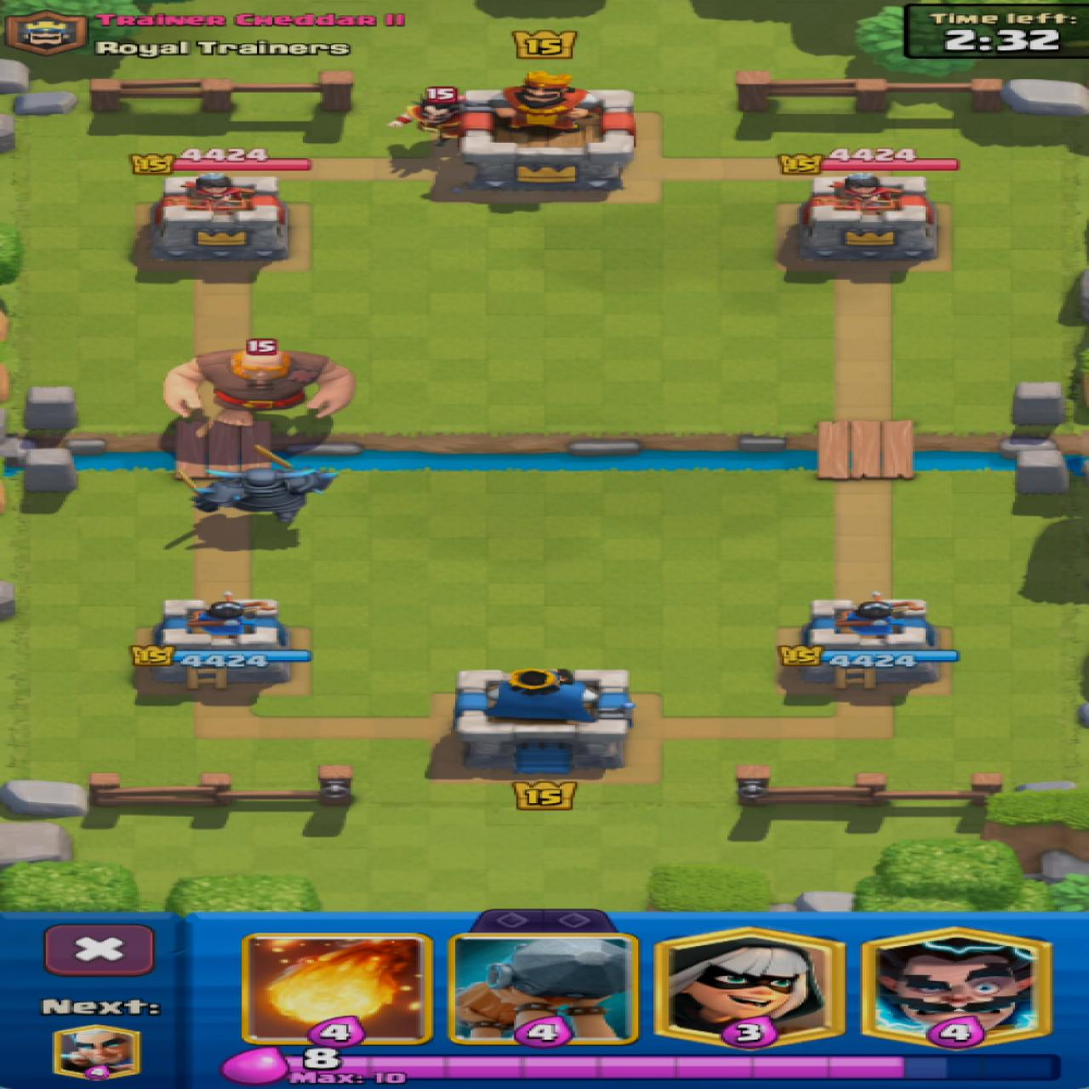Enemy-ElectroWizard: (390, 89, 462, 145)
Enemy-Giant: (166, 340, 351, 427)
Enemy-KingTower: (457, 72, 634, 193)
Enemy-PrincessTower: (146, 174, 287, 262), (799, 172, 934, 262)
